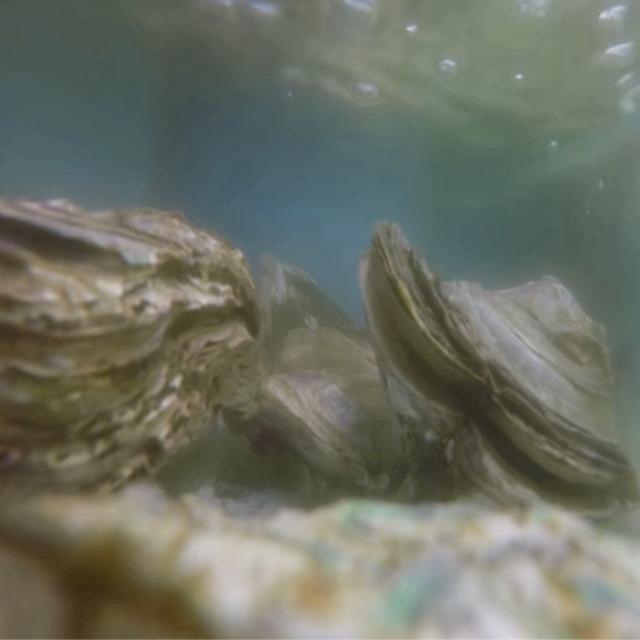Oyster-Closed: (0, 198, 259, 525), (261, 326, 421, 506)
Oyster-Indeterminate: (0, 487, 640, 640)
Oyster-Open: (359, 219, 640, 537)
